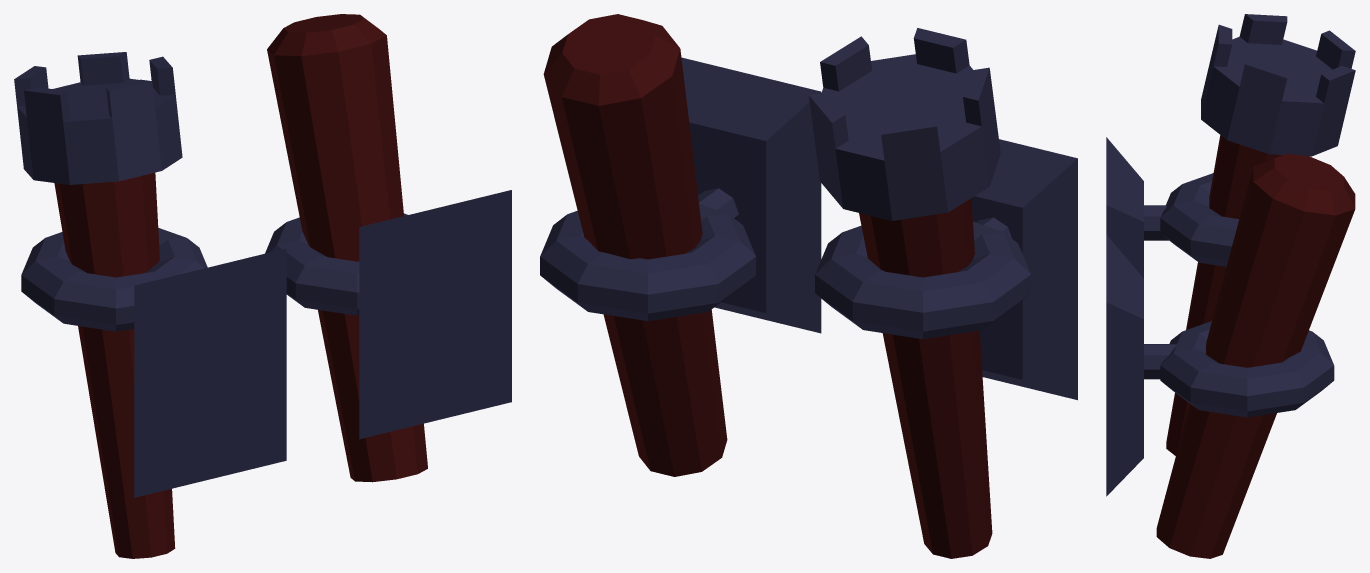
File: torches_v01.fbx
The picture shows the model from 3 angles, left to right: view 1: azimuth 30°, elevation 25°; view 2: azimuth 150°, elevation 25°; view 3: azimuth 270°, elevation 25°; orthographic projection. The views are drawn at different scales.
Visible parts, largest first — view 1: troche_avec_fer_v01, troche_sans_fer_v01; view 2: troche_avec_fer_v01, troche_sans_fer_v01; view 3: troche_sans_fer_v01, troche_avec_fer_v01.
Part boxes in pixels (x1,y1,x2,y2): troche_avec_fer_v01: (14,52,286,558); troche_sans_fer_v01: (265,14,511,482); troche_avec_fer_v01: (809,28,1077,558); troche_sans_fer_v01: (540,14,821,476); troche_sans_fer_v01: (1106,153,1355,558); troche_avec_fer_v01: (1106,14,1355,455).
Size of the model in its own units: 1.43 by 1.56 by 0.8373.
2 materials, 2 textured.
